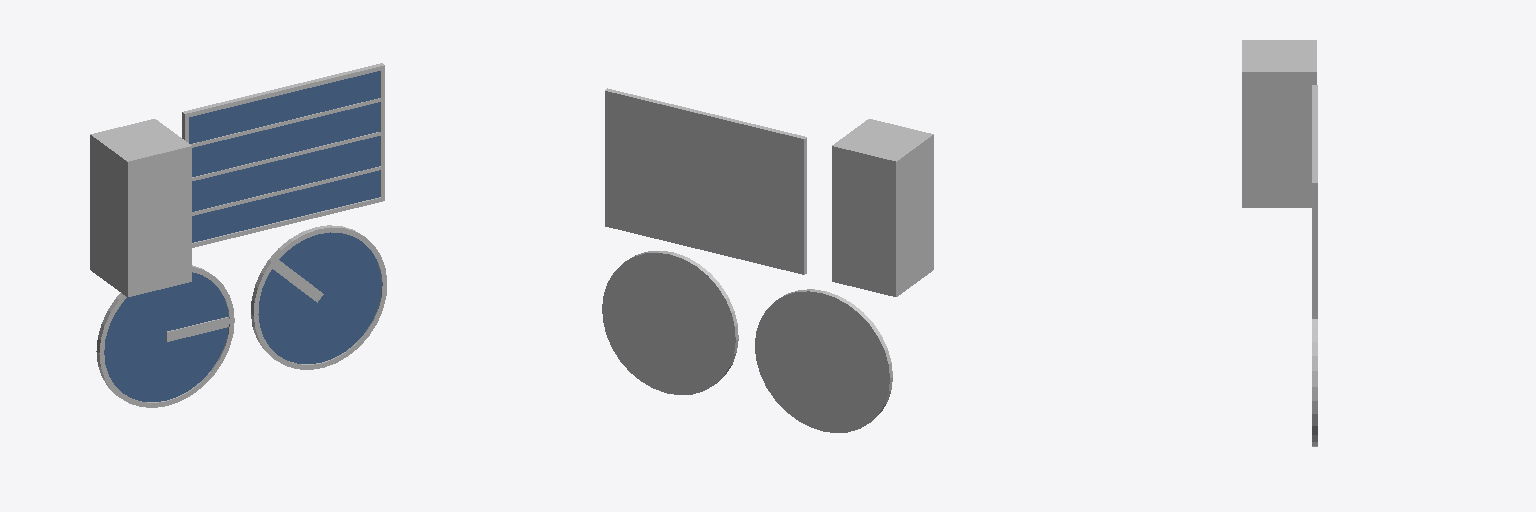
File: etap.obj
3 renders of one model, left to right at view 1: azimuth 30°, elevation 25°; view 2: azimuth 150°, elevation 25°; view 3: azimuth 270°, elevation 25°, orthographic.
Parts seen in each view (by area): view 1: Cube.002, Cube, Cylinder.002, Cylinder.001, Cube.001, Cylinder.003, Cylinder, Cube.004, Cube.003, Cube.005, Cube.006, Cube.007; view 2: Cube.001, Cube, Cylinder, Cylinder.003; view 3: Cube, Cube.001, Cylinder.003.
Part boxes in pixels (bbox=[...]): Cube.002: bbox=[189, 71, 379, 242]; Cube: bbox=[90, 119, 191, 296]; Cylinder.002: bbox=[258, 232, 381, 363]; Cylinder.001: bbox=[104, 272, 228, 401]; Cube.001: bbox=[182, 63, 384, 247]; Cylinder.003: bbox=[251, 225, 386, 369]; Cylinder: bbox=[96, 265, 234, 407]; Cube.004: bbox=[192, 132, 380, 180]; Cube.003: bbox=[190, 98, 380, 147]; Cube.005: bbox=[192, 166, 380, 215]; Cube.006: bbox=[166, 317, 229, 341]; Cube.007: bbox=[273, 260, 323, 302]; Cube.001: bbox=[605, 88, 806, 274]; Cube: bbox=[832, 119, 933, 296]; Cylinder: bbox=[755, 289, 892, 432]; Cylinder.003: bbox=[602, 251, 738, 394]; Cube: bbox=[1242, 40, 1316, 207]; Cube.001: bbox=[1312, 85, 1317, 318]; Cylinder.003: bbox=[1312, 319, 1317, 446].
Size of the model in its own units: 9.08 by 8.48 by 2.01.